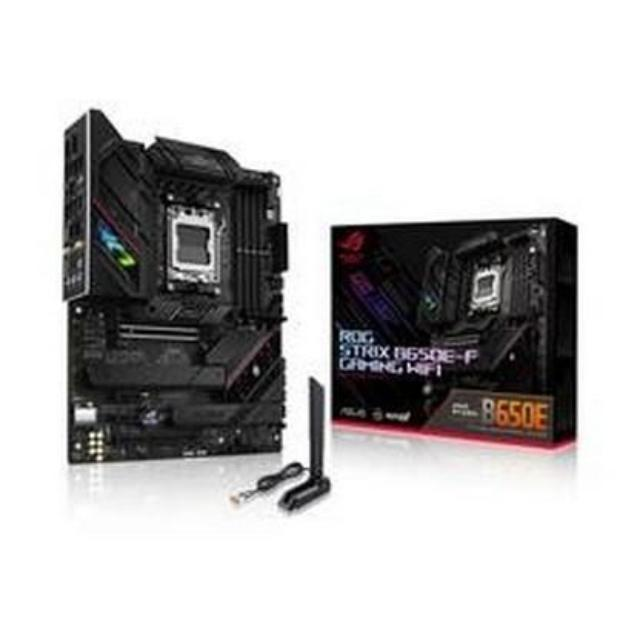Mainboard: (54, 97, 300, 474)
